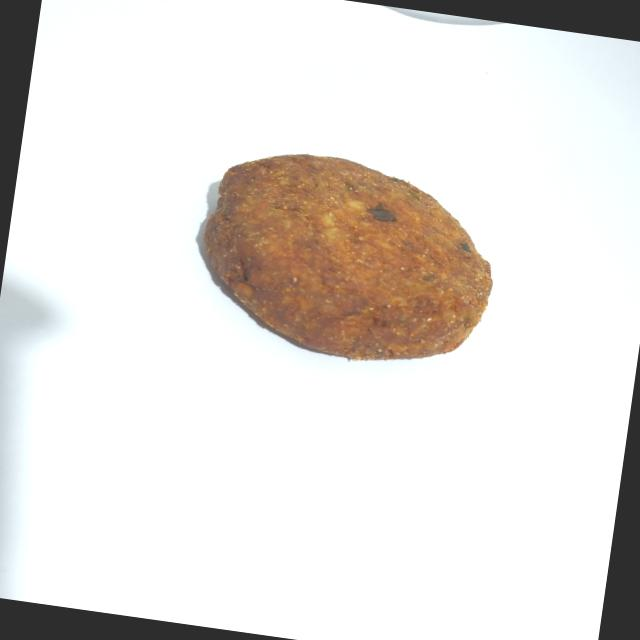Pajagua: (174, 118, 516, 386)
